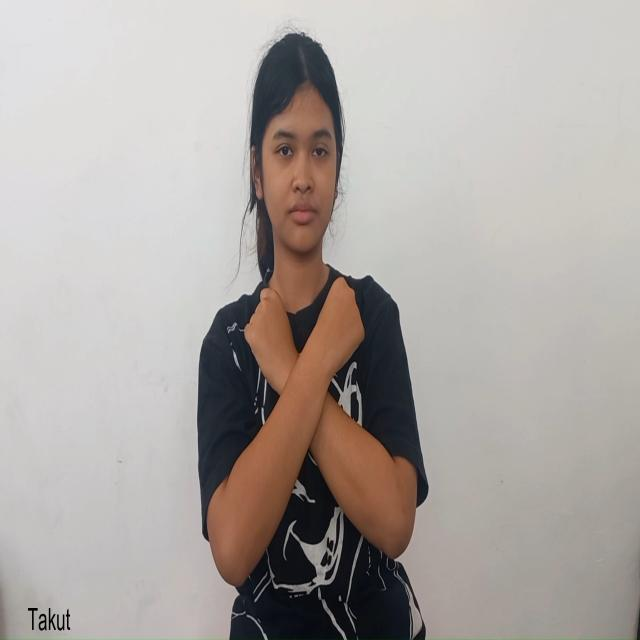Takut -BISINDO-: (225, 276, 395, 588)
